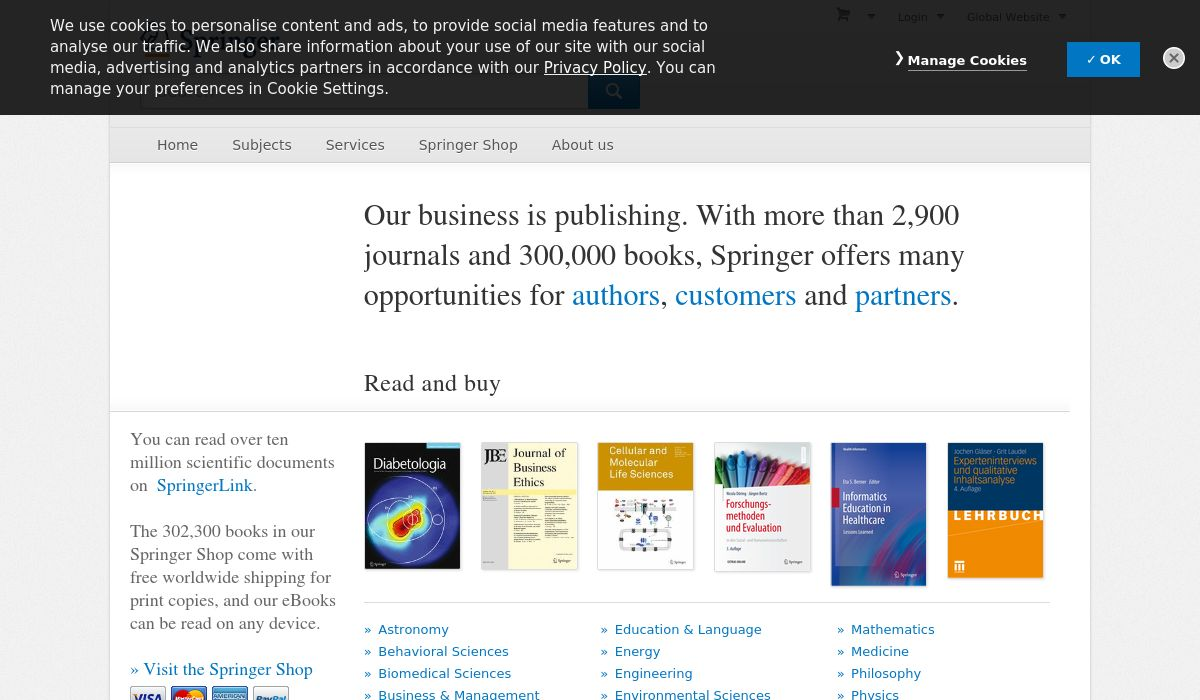menu: (109, 127, 1091, 162)
menu-button: (410, 127, 525, 162), (221, 127, 296, 162), (318, 127, 393, 162), (548, 127, 623, 162), (153, 127, 203, 162)
